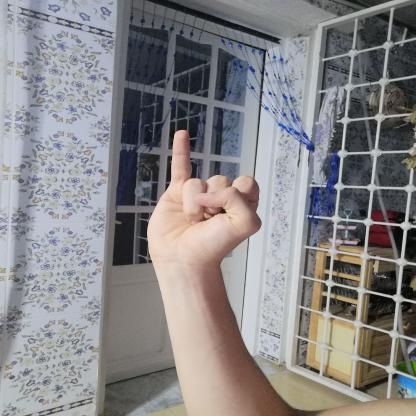MEEM: (132, 123, 278, 274)
